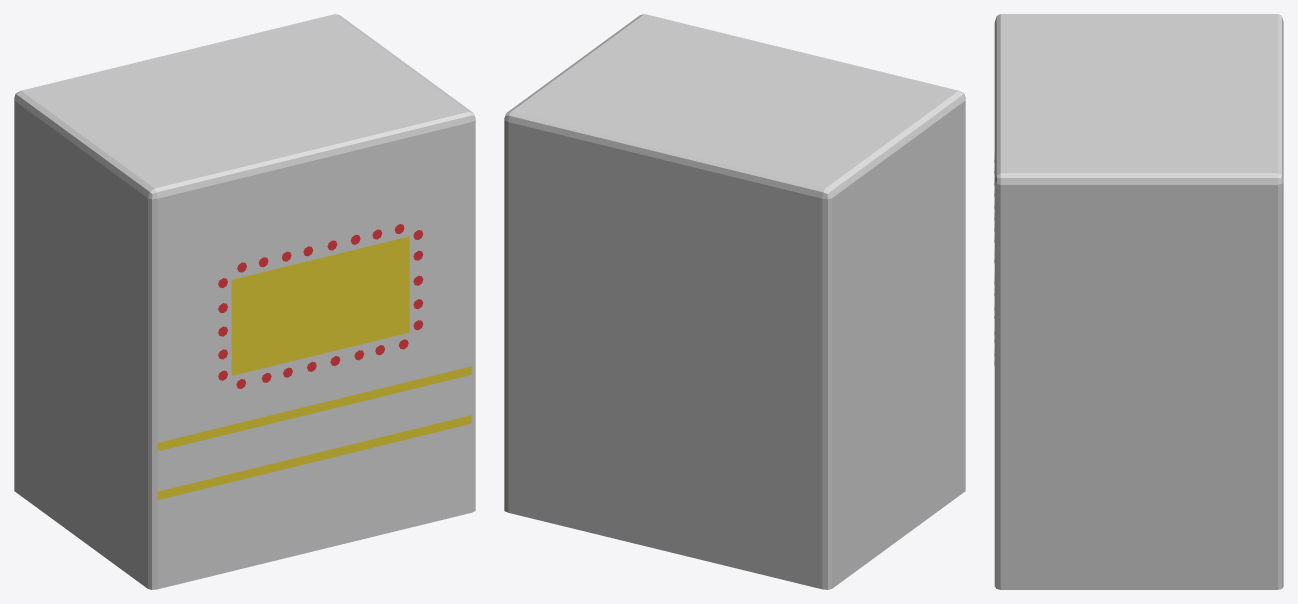
Rendered from octopus.fbx.
3 views of the same model, side by side, from view 1: azimuth 30°, elevation 25°; view 2: azimuth 150°, elevation 25°; view 3: azimuth 270°, elevation 25° (orthographic). The views are drawn at different scales.
Visible parts, largest first — view 1: Cube; view 2: Cube; view 3: Cube.
Boxes of the visible parts, x1,y1,x2,y2 form: Cube: (14,14,475,589); Cube: (504,14,965,589); Cube: (994,14,1283,589).
Size of the model in its own units: 4 by 2.95 by 4.65.
